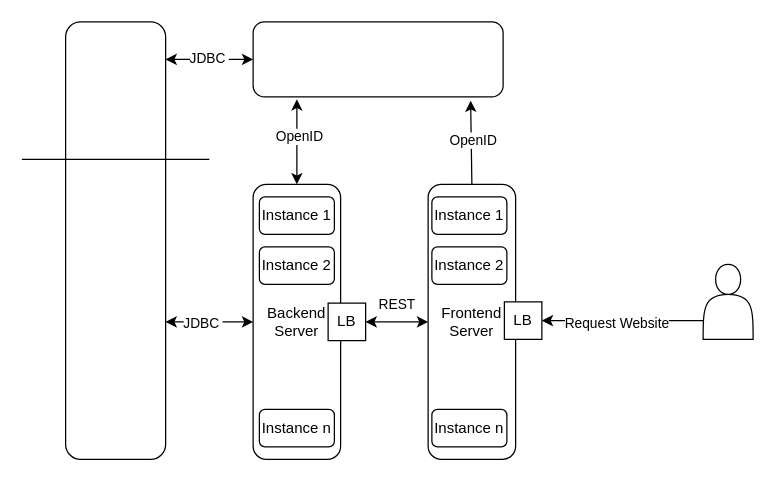
Image size: 775x481. Some labels were removed from this diagram. Here are the shapes that lost their labels. From the top down, the centre of each, then its label:
At [377,59]: "Keycloak".
At [115,240]: "Database".
